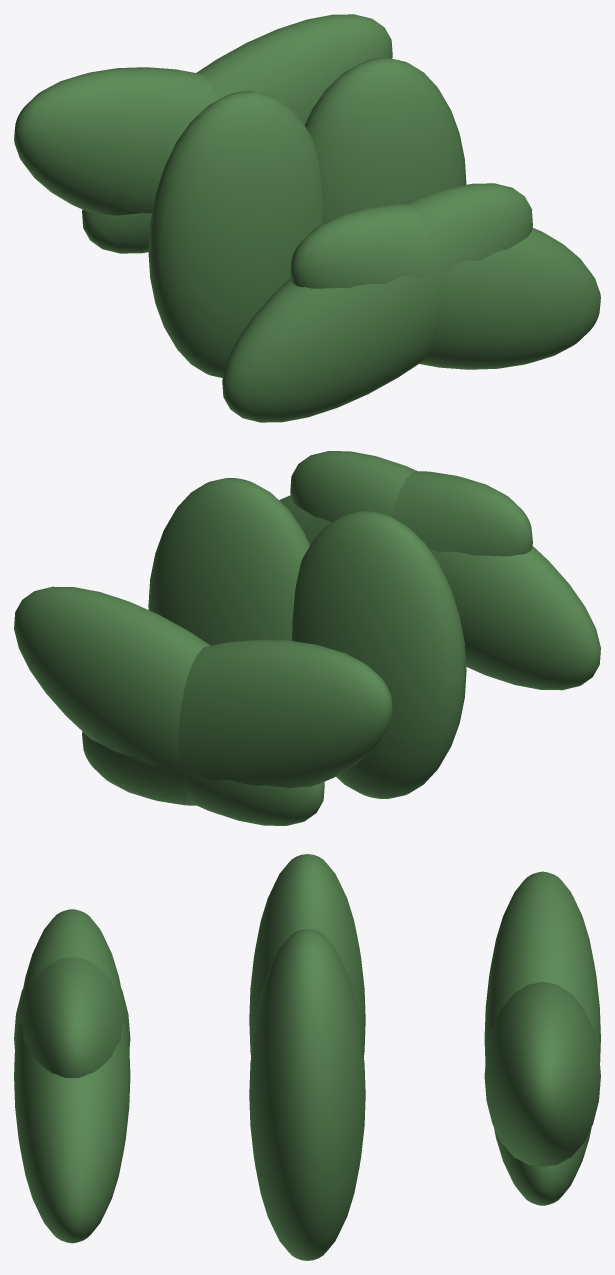
Rendered from wp-epinards.glb.
3 views of the same model, one above another, from view 1: azimuth 30°, elevation 25°; view 2: azimuth 150°, elevation 25°; view 3: azimuth 270°, elevation 25° (orthographic). The views are drawn at different scales.
Parts seen in each view (by area): view 1: wp-epinards; view 2: wp-epinards; view 3: wp-epinards.
Part boxes in pixels (x1,y1,x2,y2): wp-epinards: (14, 14, 600, 422); wp-epinards: (14, 451, 600, 825); wp-epinards: (14, 854, 600, 1260).
Bounding box in the file's own units: 0.1662 × 0.12 × 0.2.
